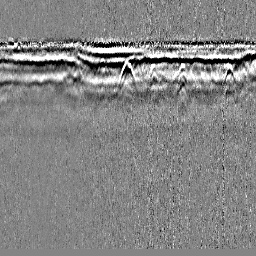cavity: (115, 59, 138, 92)
